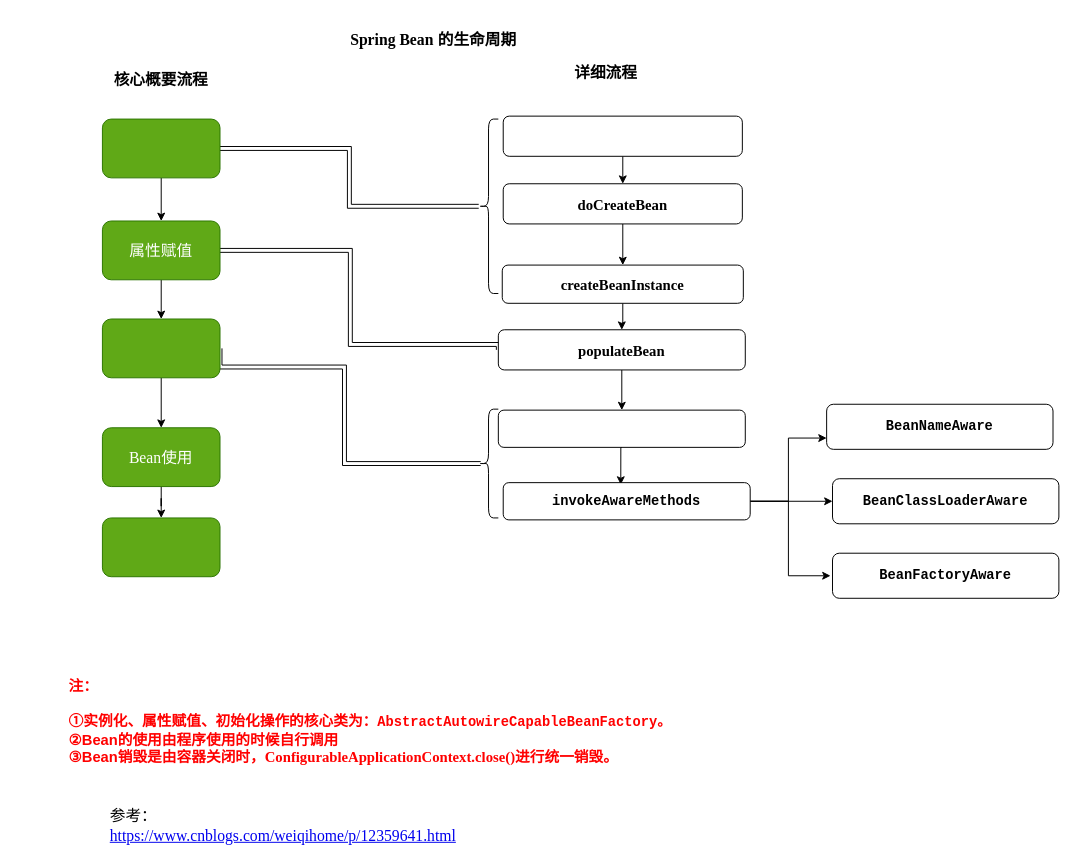
The diagram is 1076 pixels wide and 862 high, and some of its shapes have lost their labels. Each missing label, with the box of its shape:
Bean 销毁: (101, 517, 220, 577)
createBean: (502, 115, 742, 156)
initializeBean: (497, 409, 745, 447)
初始化: (101, 318, 220, 378)
实例化: (101, 118, 220, 178)
